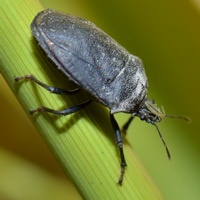insect: (31, 9, 170, 182)
